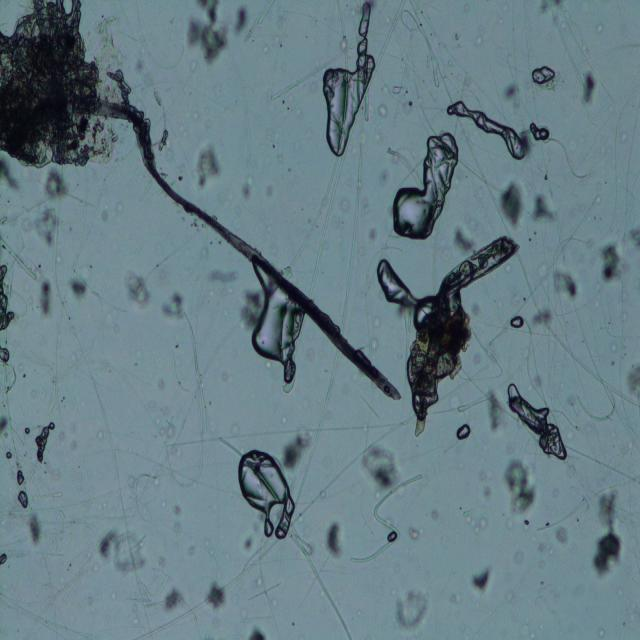Air bubble: (320, 1, 379, 160), (241, 266, 311, 396), (392, 130, 462, 248), (235, 452, 301, 543), (447, 101, 529, 165), (509, 384, 571, 464), (369, 256, 427, 317), (34, 415, 62, 462), (529, 118, 553, 151), (23, 514, 44, 550), (532, 65, 561, 86), (454, 422, 474, 443), (15, 492, 33, 514), (508, 312, 528, 330), (14, 469, 26, 490), (1, 449, 15, 464), (0, 551, 10, 569)
Background material: (1, 2, 113, 171), (550, 319, 622, 429), (180, 1, 234, 67), (591, 488, 627, 585), (98, 528, 149, 577), (504, 459, 540, 519), (494, 177, 530, 234), (362, 442, 402, 490), (0, 274, 19, 368), (395, 588, 435, 631), (597, 239, 628, 287), (284, 427, 316, 472), (193, 141, 223, 188), (484, 390, 514, 435), (119, 267, 151, 309), (549, 268, 583, 304), (321, 519, 347, 565), (31, 208, 62, 246), (157, 287, 188, 325), (467, 562, 498, 598), (35, 276, 57, 323), (525, 302, 556, 334), (460, 507, 492, 537), (527, 192, 555, 226), (620, 358, 640, 405), (452, 225, 478, 253), (580, 72, 598, 112), (44, 171, 70, 198), (231, 4, 253, 35), (208, 261, 238, 283), (205, 584, 228, 611), (68, 276, 90, 302), (161, 588, 183, 613), (153, 420, 174, 445), (553, 523, 570, 553), (240, 622, 267, 640), (234, 177, 254, 201), (502, 78, 516, 108), (510, 546, 526, 568), (537, 0, 558, 15), (620, 282, 633, 306), (471, 297, 485, 319), (409, 520, 421, 545), (185, 534, 197, 558), (264, 181, 278, 201), (368, 316, 382, 336), (607, 337, 620, 358), (0, 408, 8, 440), (171, 496, 181, 519), (478, 470, 492, 486), (618, 311, 632, 327), (366, 336, 380, 351), (21, 422, 32, 441), (480, 485, 493, 501), (243, 535, 255, 551), (231, 421, 241, 438), (470, 351, 482, 365), (173, 520, 185, 533), (538, 557, 548, 571), (96, 426, 105, 441), (550, 483, 558, 498), (506, 518, 514, 531), (522, 519, 530, 532), (431, 508, 440, 519), (544, 521, 550, 529), (540, 581, 544, 586)
Cotton: (68, 94, 403, 408), (405, 232, 518, 437)
Glass filter fibre: (303, 413, 403, 512), (267, 21, 365, 102), (349, 472, 425, 572), (289, 533, 357, 638), (339, 140, 369, 332), (401, 10, 456, 101), (307, 157, 339, 298), (1, 234, 40, 285), (128, 469, 157, 524), (251, 576, 279, 602)
